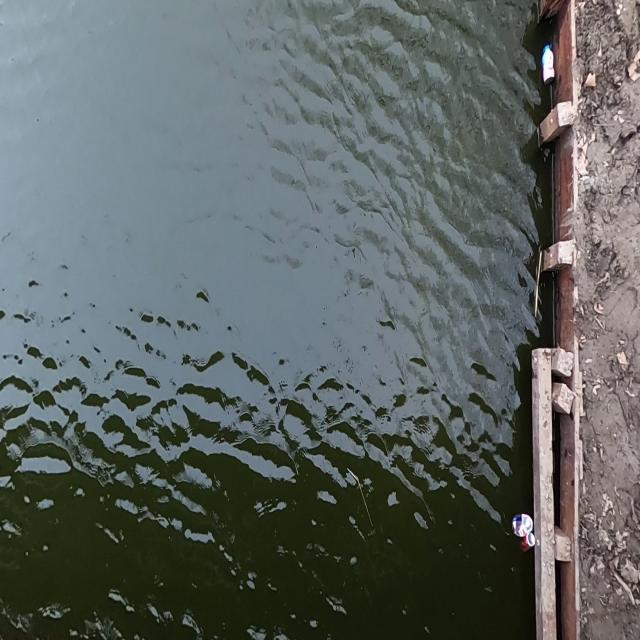Bouteille plastique: (541, 42, 556, 88)
Non plastique: (509, 509, 534, 536), (523, 533, 535, 557)
